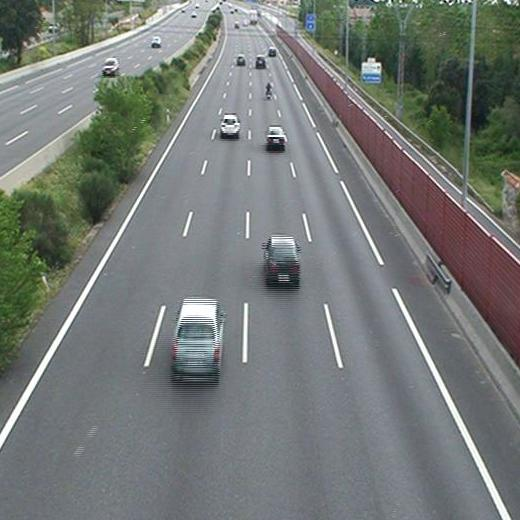car: (173, 300, 220, 375), (265, 237, 299, 281), (220, 116, 240, 135), (266, 127, 287, 145), (255, 55, 266, 67), (235, 56, 247, 65), (266, 47, 276, 56)
motorcycle: (263, 80, 273, 100)
